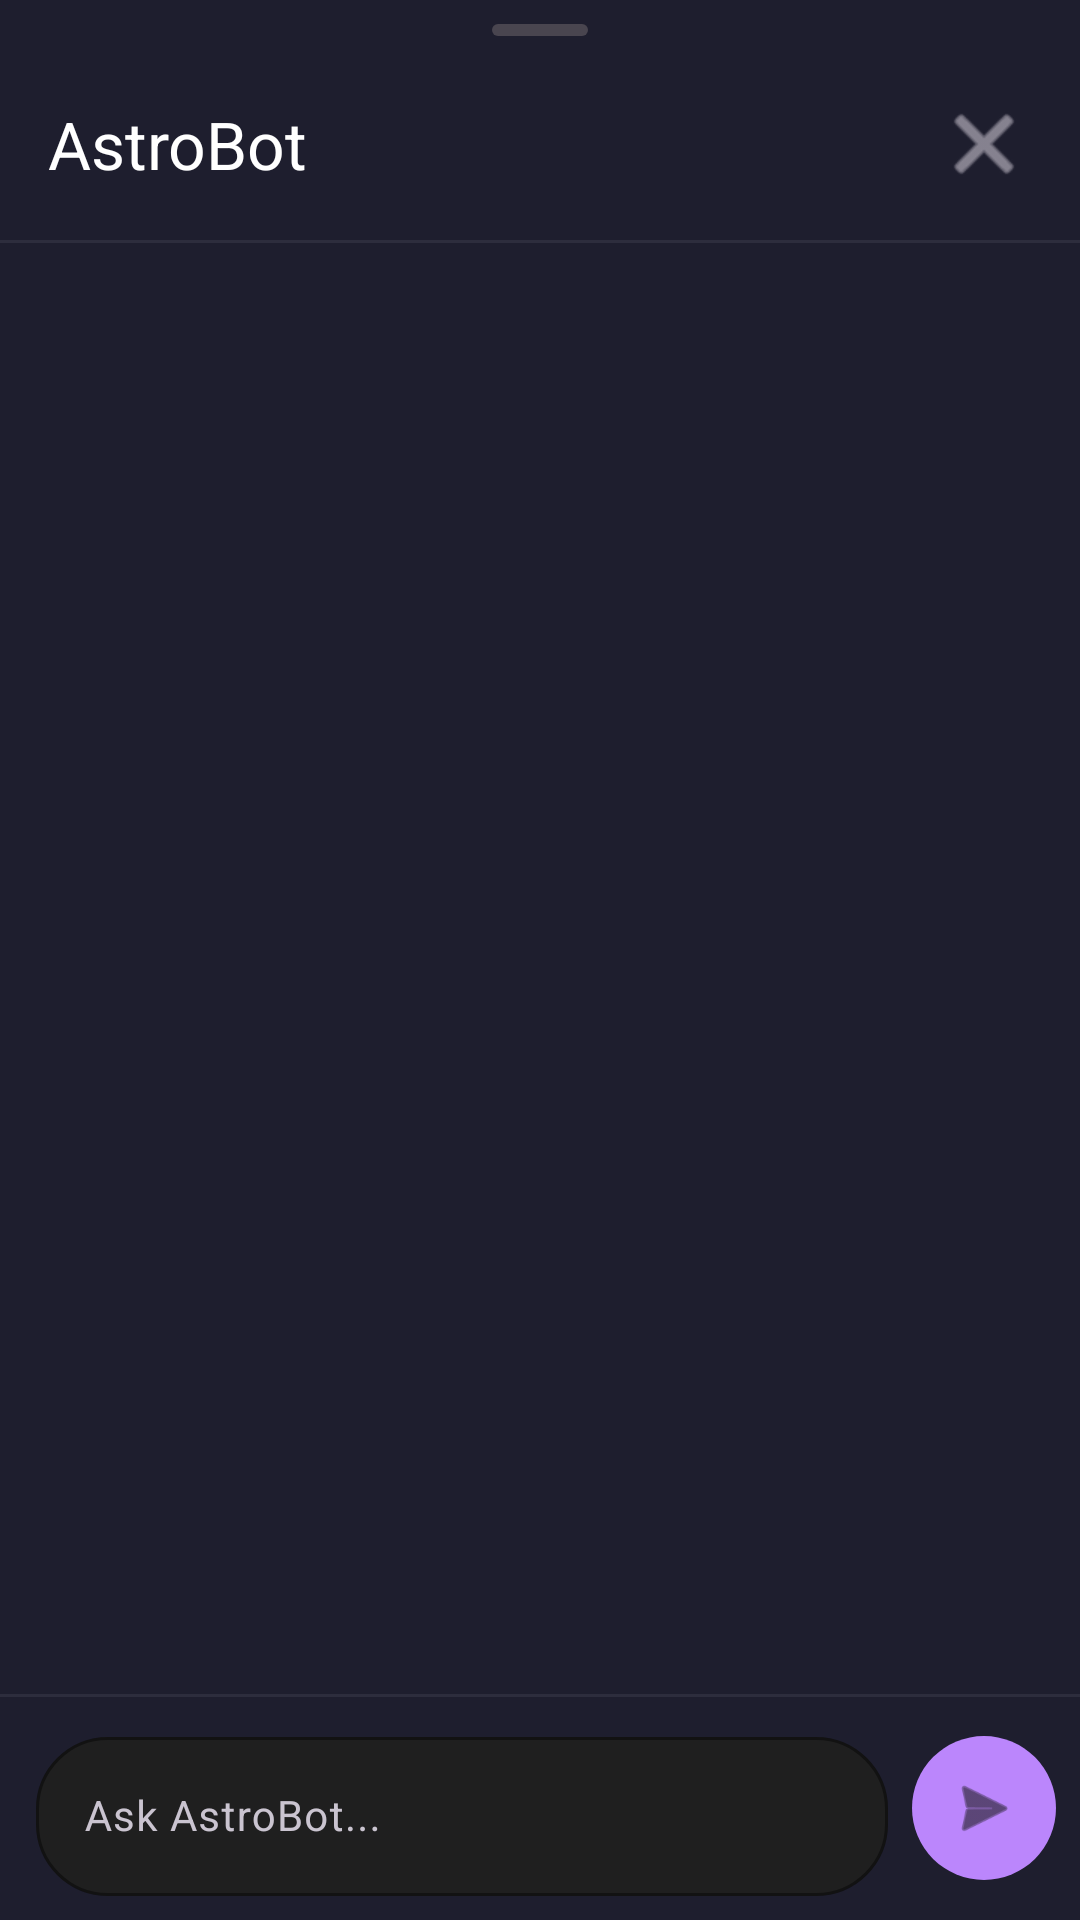

Named icons in this screenshot (1080*1920) and their bounding boxes, {"x1": x1, "y1": y1, "x2": x2, "y2": y2}:
Close chat: {"x1": 954, "y1": 114, "x2": 1014, "y2": 174}
Send message: {"x1": 912, "y1": 1736, "x2": 1056, "y2": 1880}
